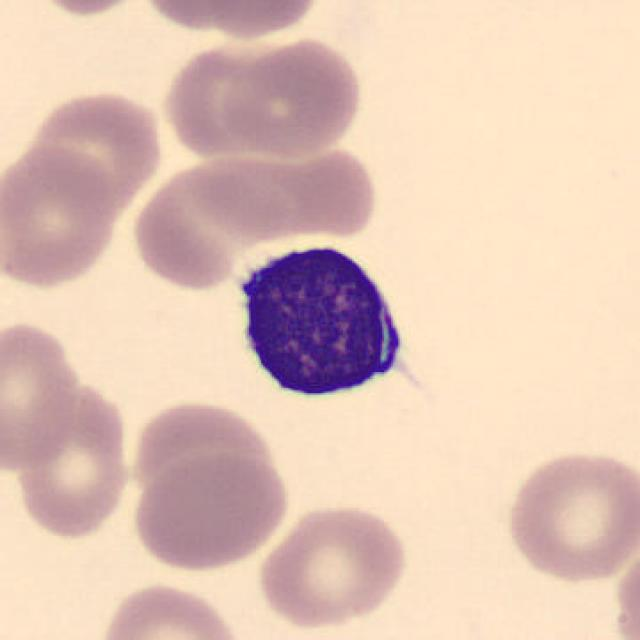Lymphocyte: (222, 229, 428, 413)
RBC: (126, 152, 286, 294), (7, 372, 135, 543), (252, 499, 412, 633), (126, 450, 294, 573), (18, 84, 169, 218), (502, 444, 638, 586), (156, 34, 304, 162), (0, 141, 123, 293), (122, 395, 282, 511), (220, 34, 366, 160), (242, 133, 378, 244), (0, 315, 85, 474), (93, 578, 247, 640), (144, 0, 331, 41), (611, 537, 638, 640), (18, 0, 156, 18)
